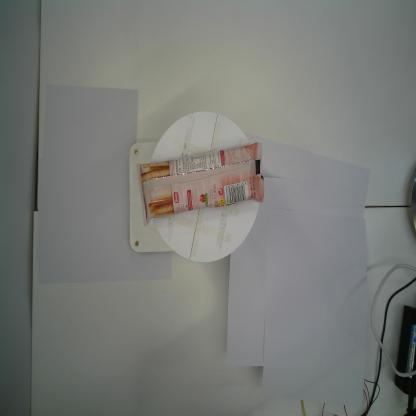Dessert: (137, 142, 264, 227)
